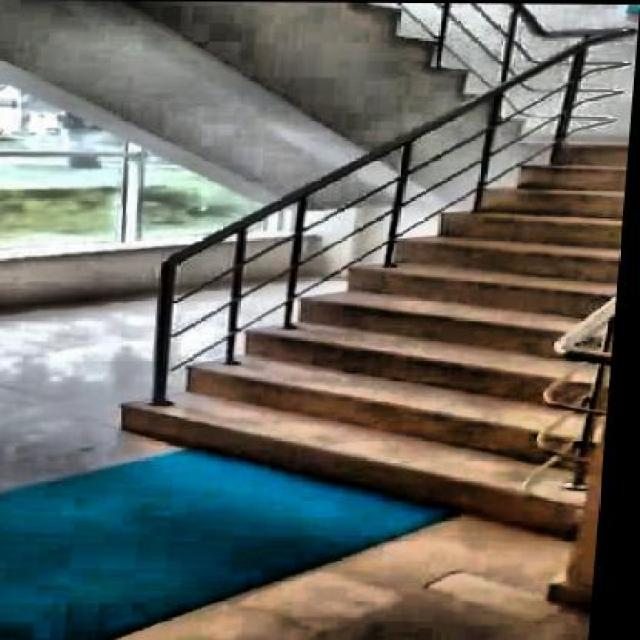stair: (76, 129, 630, 545)
